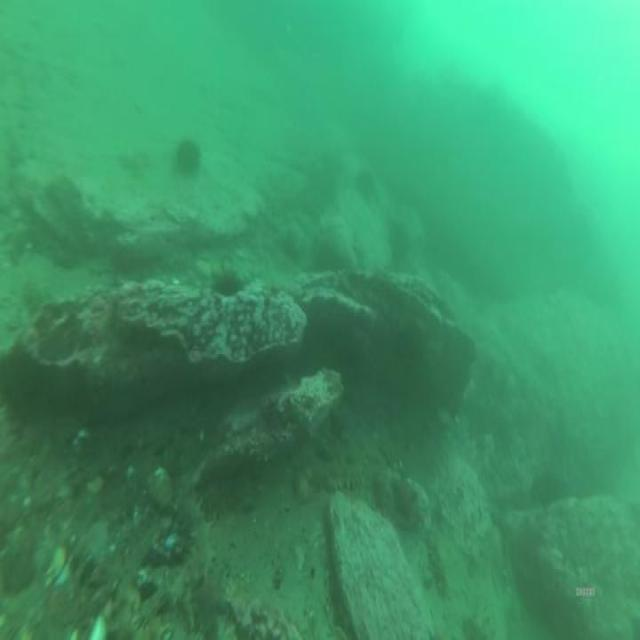echinus: (176, 139, 198, 179), (390, 220, 409, 254), (212, 273, 242, 294), (358, 168, 375, 199)
holothurian: (178, 493, 215, 580), (425, 530, 451, 594), (321, 460, 365, 493)
starfish: (389, 469, 418, 523)
